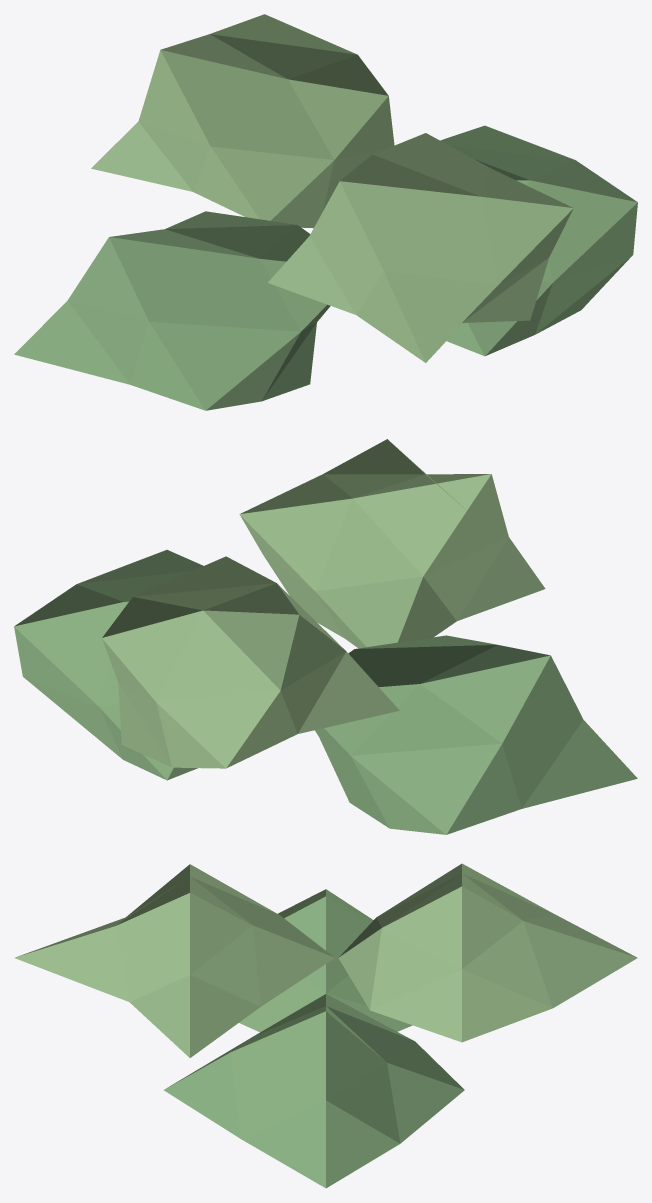
File: shrub_v17.glb
3 views of the same model, one above another, from view 1: azimuth 30°, elevation 25°; view 2: azimuth 150°, elevation 25°; view 3: azimuth 270°, elevation 25° (orthographic). The views are drawn at different scales.
Parts seen in each view (by area): view 1: lod0; view 2: lod0; view 3: lod0.
Boxes of the visible parts, box(x1,y1,x2,y2) form: lod0: box(14, 14, 637, 410); lod0: box(14, 439, 637, 834); lod0: box(14, 863, 637, 1188).
Size of what is drawn, in the model's own units: 1.47 by 0.7166 by 1.51.
